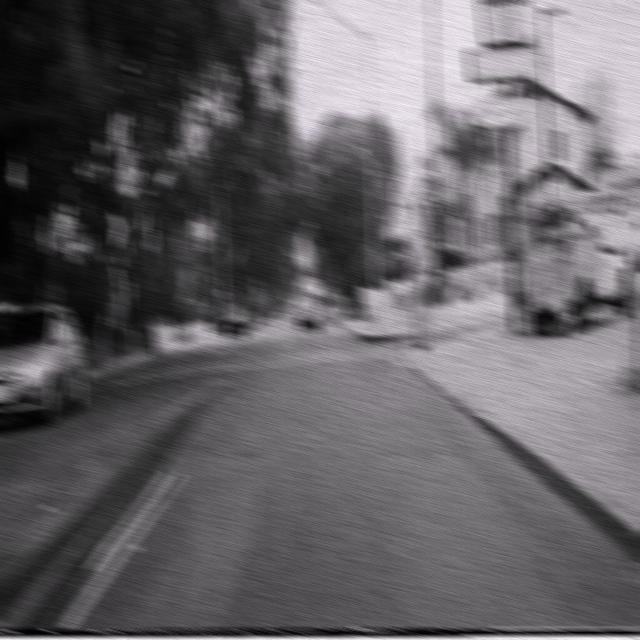pedestrianCrossing: (401, 190, 430, 238)
